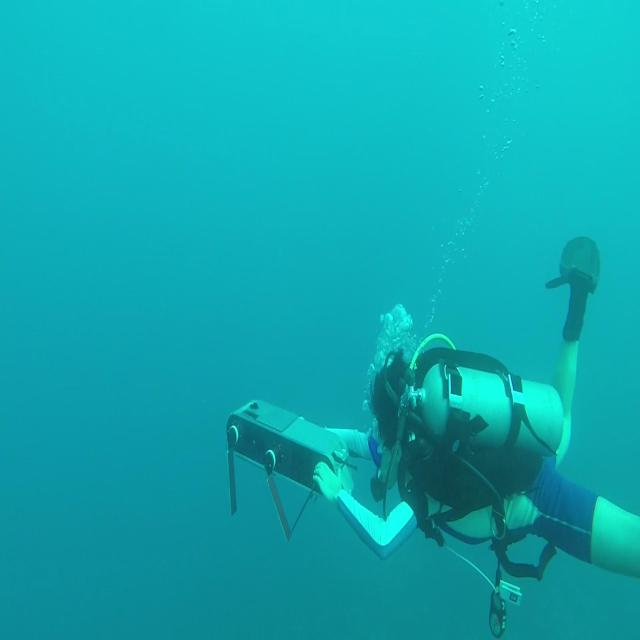human: (366, 233, 639, 634)
